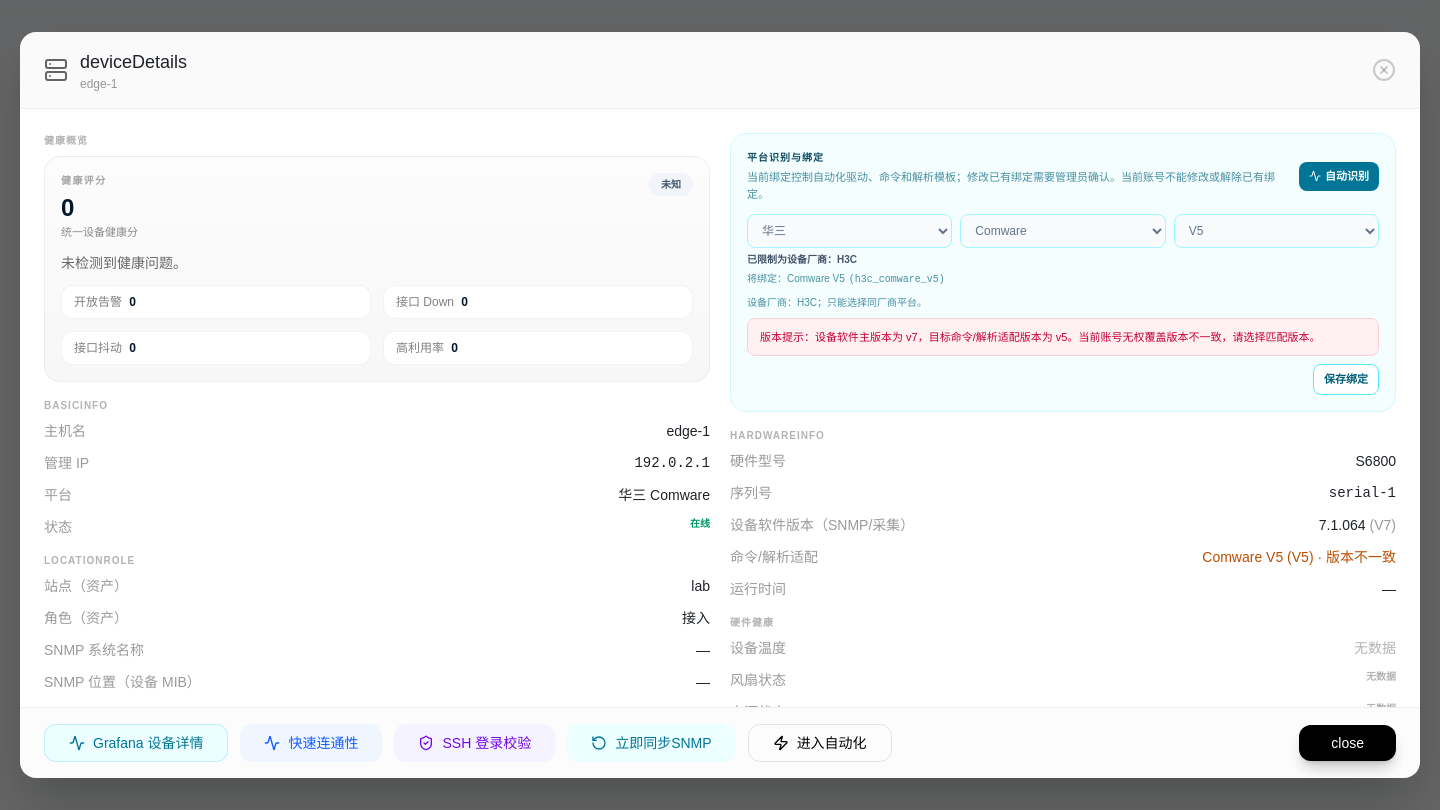
Test: DeviceDetailModal platform binding permissions › allows an unchanged existing binding to be saved idempotently for an Operator despite a version notice
expect the dropdown named "平台版本" is disabled: met, box 1174,214 -> 1379,248
expect the message shows "版本提示": met, box 760,331 -> 1320,343
Click the button "保存绑定".
click(1346, 380)  # box 1313,364 -> 1379,395
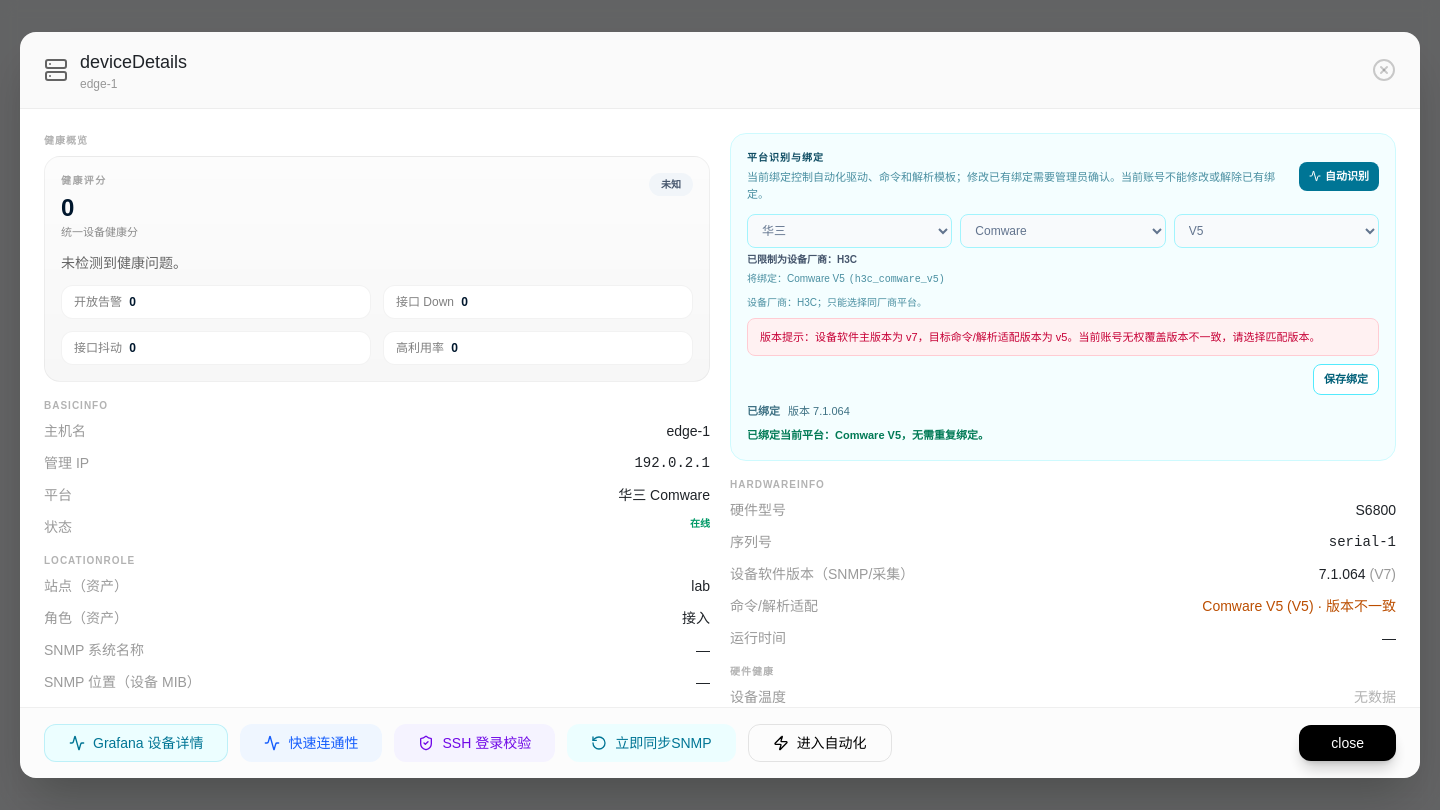
expect the text "已绑定当前平台：Comware V5，无需重复绑定。" is shown: met, box 747,429 -> 989,441
